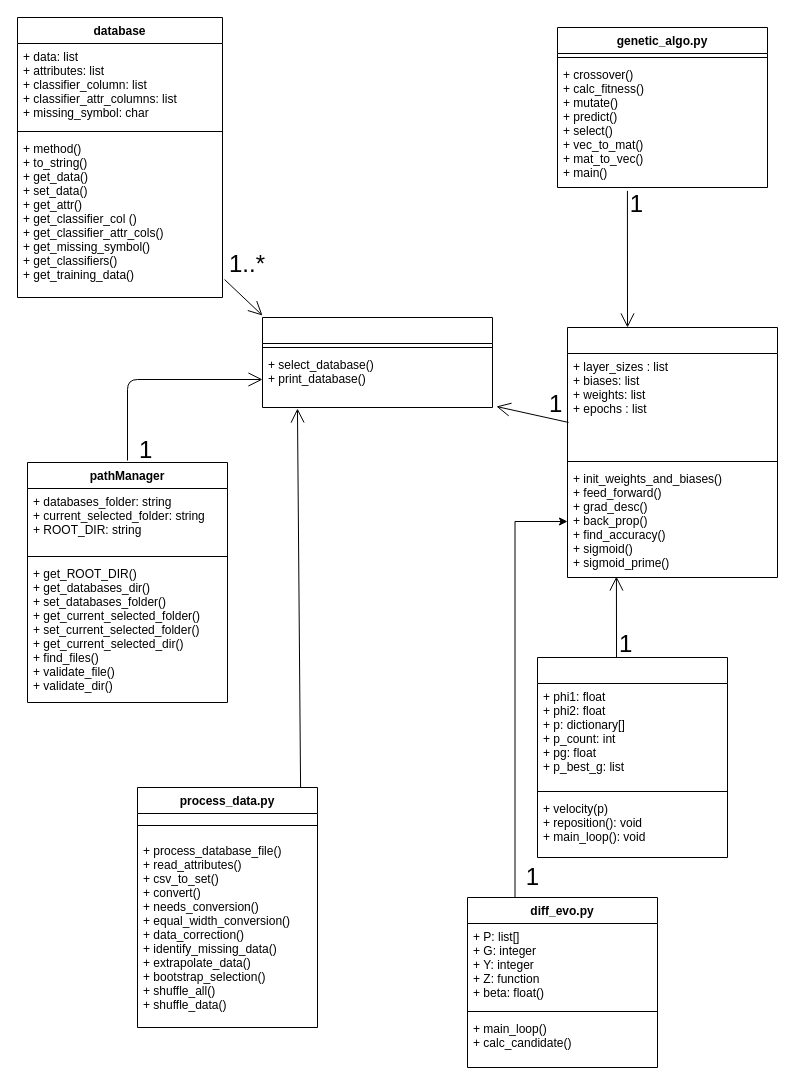
This 795x1088 diagram has some shape labels left out. Here are the shapes that lost their labels. From the top down, the box of each, then its label:
(262, 316, 492, 408): main.py
(566, 326, 778, 578): FFNN
(536, 656, 728, 858): PSO.py
